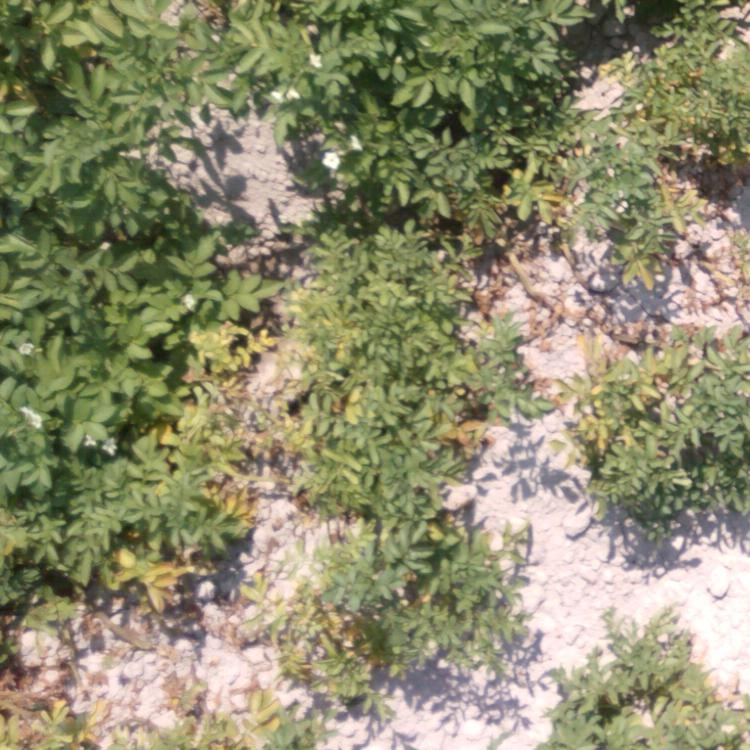healthy: (1, 566, 345, 743), (1, 237, 332, 402), (1, 409, 348, 561), (11, 1, 363, 141), (564, 88, 748, 242), (54, 141, 341, 235), (667, 246, 750, 395)
stressed: (365, 1, 547, 263), (567, 537, 750, 750), (449, 264, 656, 411), (351, 270, 445, 500), (451, 416, 562, 557), (351, 671, 553, 746), (349, 508, 436, 665)
